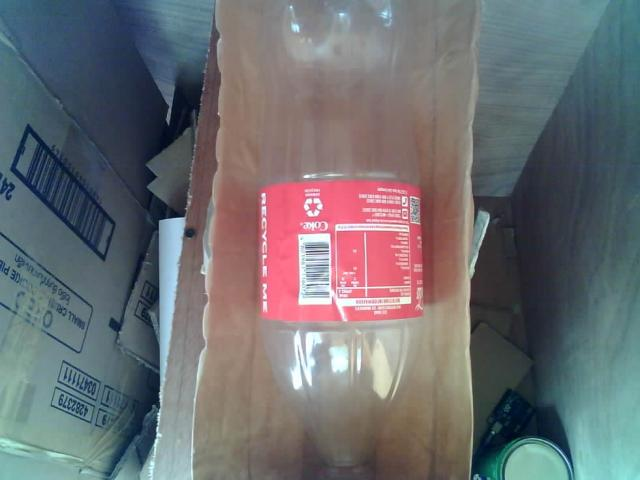large_bottle: (238, 0, 437, 480)
